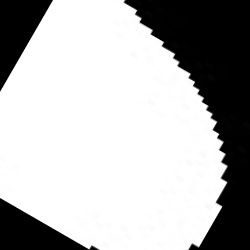spot: (1, 2, 228, 250)
